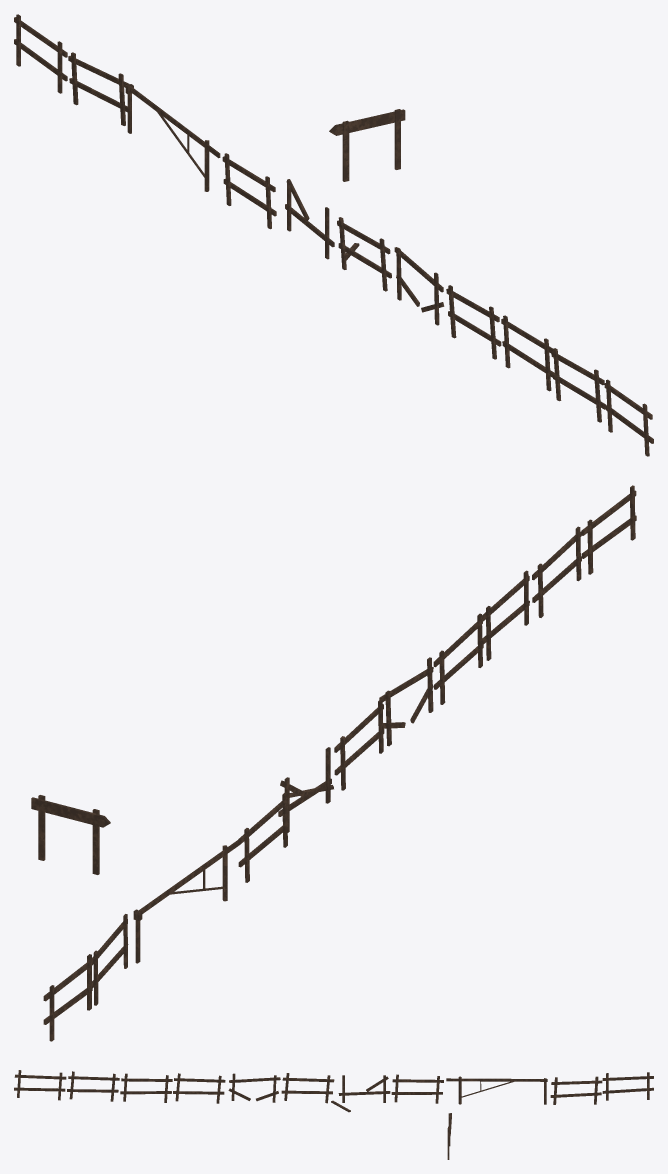
The model's file is Fence Export.glb.
The picture shows the model from 3 angles, top to bottom: view 1: azimuth 30°, elevation 25°; view 2: azimuth 150°, elevation 25°; view 3: azimuth 270°, elevation 25°; orthographic projection. The views are drawn at different scales.
Visible parts, largest first — view 1: Plane.004; view 2: Plane.004; view 3: Plane.004.
Part boxes in pixels (box(x1,y1,x2,y2)): Plane.004: box(14, 14, 653, 456); Plane.004: box(31, 485, 636, 1041); Plane.004: box(14, 1070, 653, 1159).
Bounding box in the file's own units: 31.7 × 13.65 × 160.
1 material, 1 textured.
